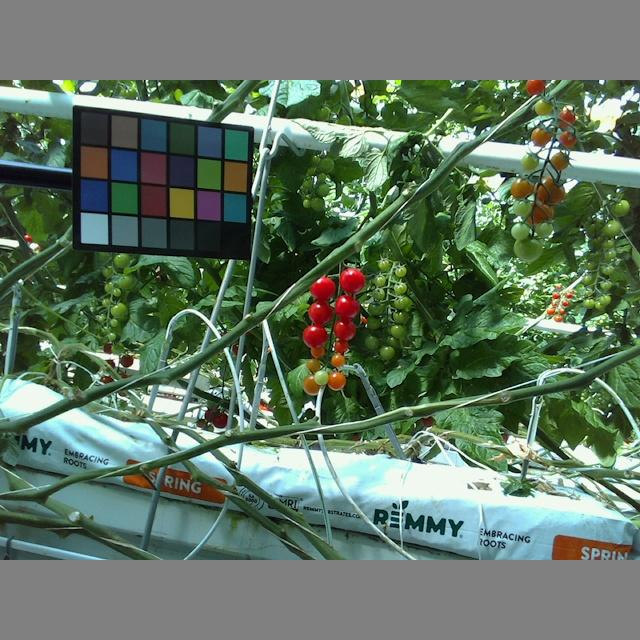green: (513, 238, 546, 264), (534, 97, 553, 116), (509, 222, 529, 240), (521, 151, 539, 171), (535, 220, 551, 237)
pink: (537, 177, 564, 203), (529, 200, 556, 226), (510, 177, 536, 199), (546, 153, 570, 174), (532, 122, 552, 146), (523, 81, 549, 99), (557, 105, 575, 128), (327, 369, 346, 390), (302, 374, 321, 394), (559, 131, 578, 147), (306, 358, 321, 374), (330, 353, 346, 367)
red: (308, 273, 335, 302), (339, 267, 367, 294), (307, 299, 332, 326), (328, 316, 355, 341), (302, 323, 328, 347), (334, 296, 358, 319)
